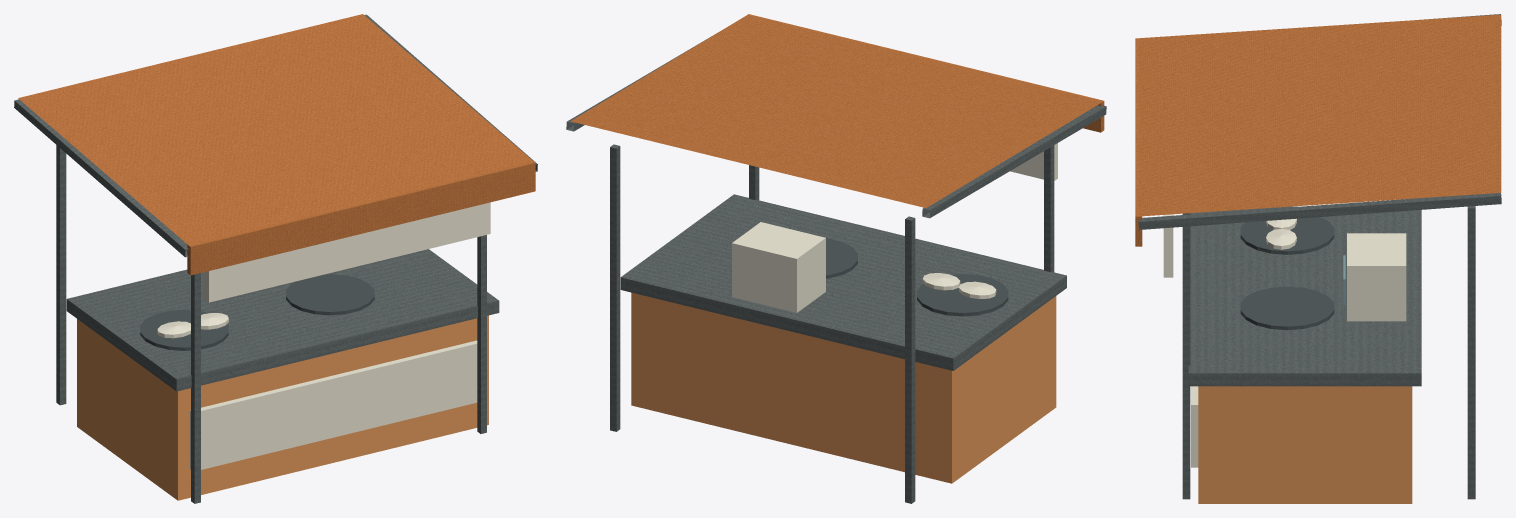
Rendered from tw_breakfast_stall.glb.
3 renders of one model, left to right at view 1: azimuth 30°, elevation 25°; view 2: azimuth 150°, elevation 25°; view 3: azimuth 270°, elevation 25°, orthographic. The views are drawn at different scales.
Visible parts, largest first — view 1: WovenAwning, GalvanizedMetal, PaintedCream, FictionalShopAccent, CharcoalRecess; view 2: WovenAwning, FictionalShopAccent, GalvanizedMetal, PaintedCream, CharcoalRecess; view 3: WovenAwning, GalvanizedMetal, FictionalShopAccent, PaintedCream, CharcoalRecess.
Part boxes in pixels (x1=…): WovenAwning: x1=18, y1=14, x2=535, y2=275; GalvanizedMetal: x1=14, y1=14, x2=537, y2=503; PaintedCream: x1=157, y1=202, x2=490, y2=469; FictionalShopAccent: x1=77, y1=315, x2=488, y2=500; CharcoalRecess: x1=140, y1=274, x2=374, y2=350; WovenAwning: x1=570, y1=14, x2=1104, y2=207; FictionalShopAccent: x1=631, y1=292, x2=1056, y2=483; GalvanizedMetal: x1=566, y1=34, x2=1106, y2=503; PaintedCream: x1=732, y1=143, x2=1057, y2=312; CharcoalRecess: x1=826, y1=238, x2=1008, y2=316; WovenAwning: x1=1135, y1=14, x2=1501, y2=246; GalvanizedMetal: x1=1138, y1=14, x2=1501, y2=499; FictionalShopAccent: x1=1198, y1=386, x2=1412, y2=503; PaintedCream: x1=1163, y1=214, x2=1406, y2=467; CharcoalRecess: x1=1240, y1=217, x2=1334, y2=330.
Size of the model in its own units: 3.62 by 2.97 by 3.08.
6 materials, 2 textured.
